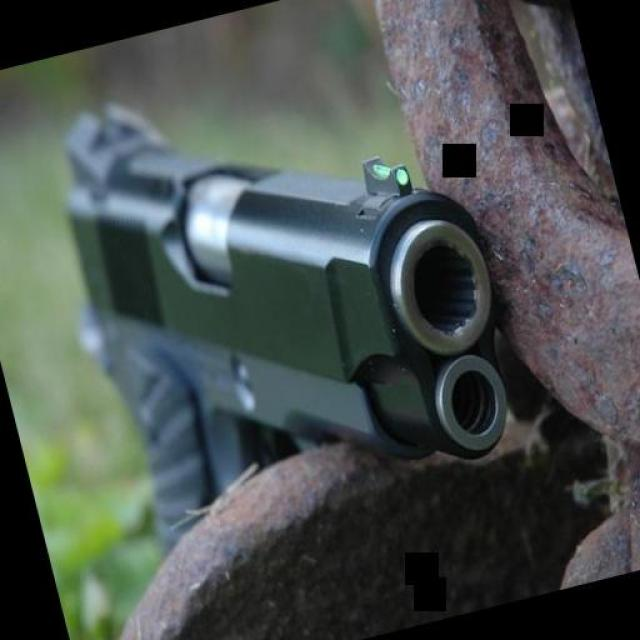gun: (25, 18, 531, 554)
